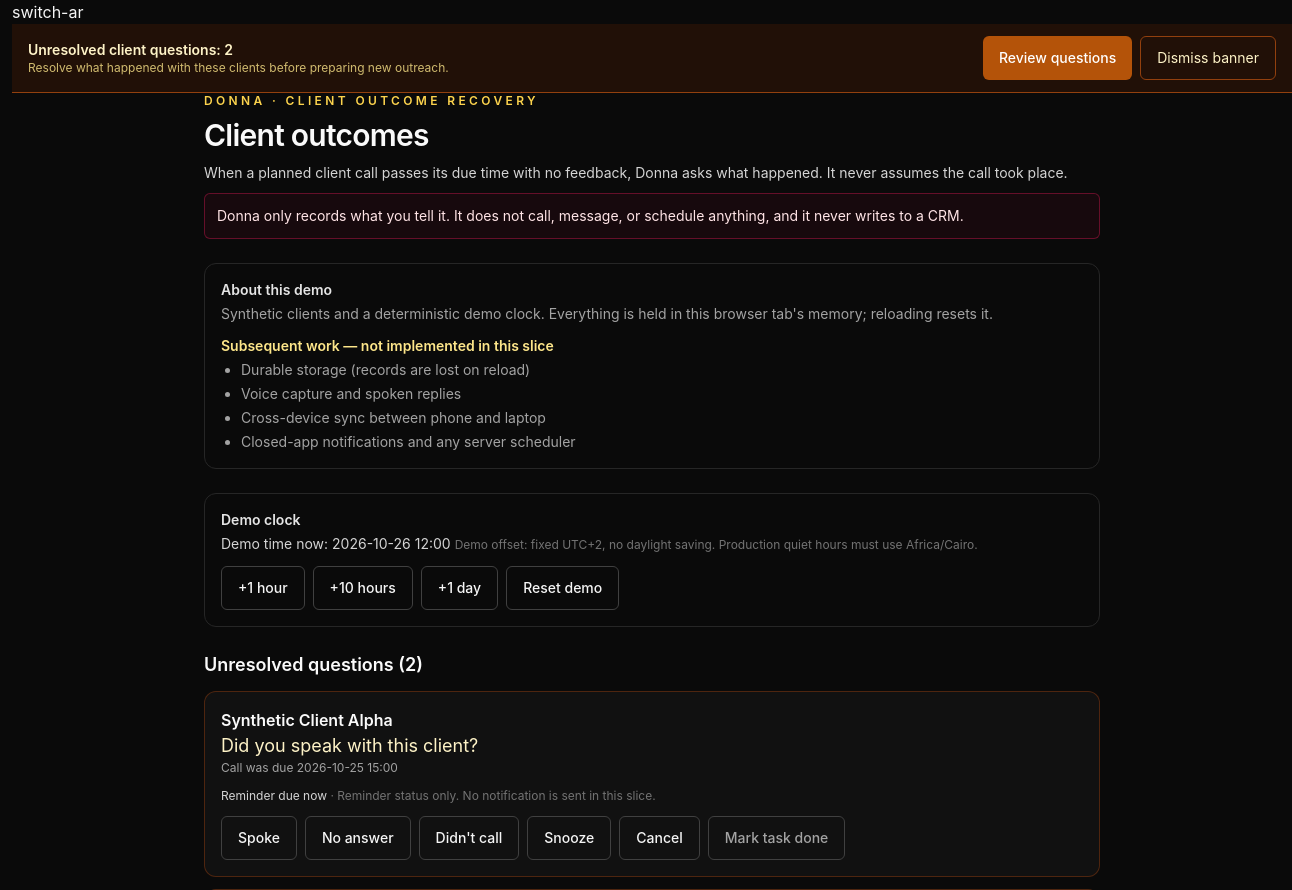
Test case: Donna inbox (English) › will not record a client-confirmed appointment unless the client confirmation box is ticked
The image size is (1292, 890).
Click the button "Spoke": click(259, 838) 221,816 -> 297,860
(page scrolled)
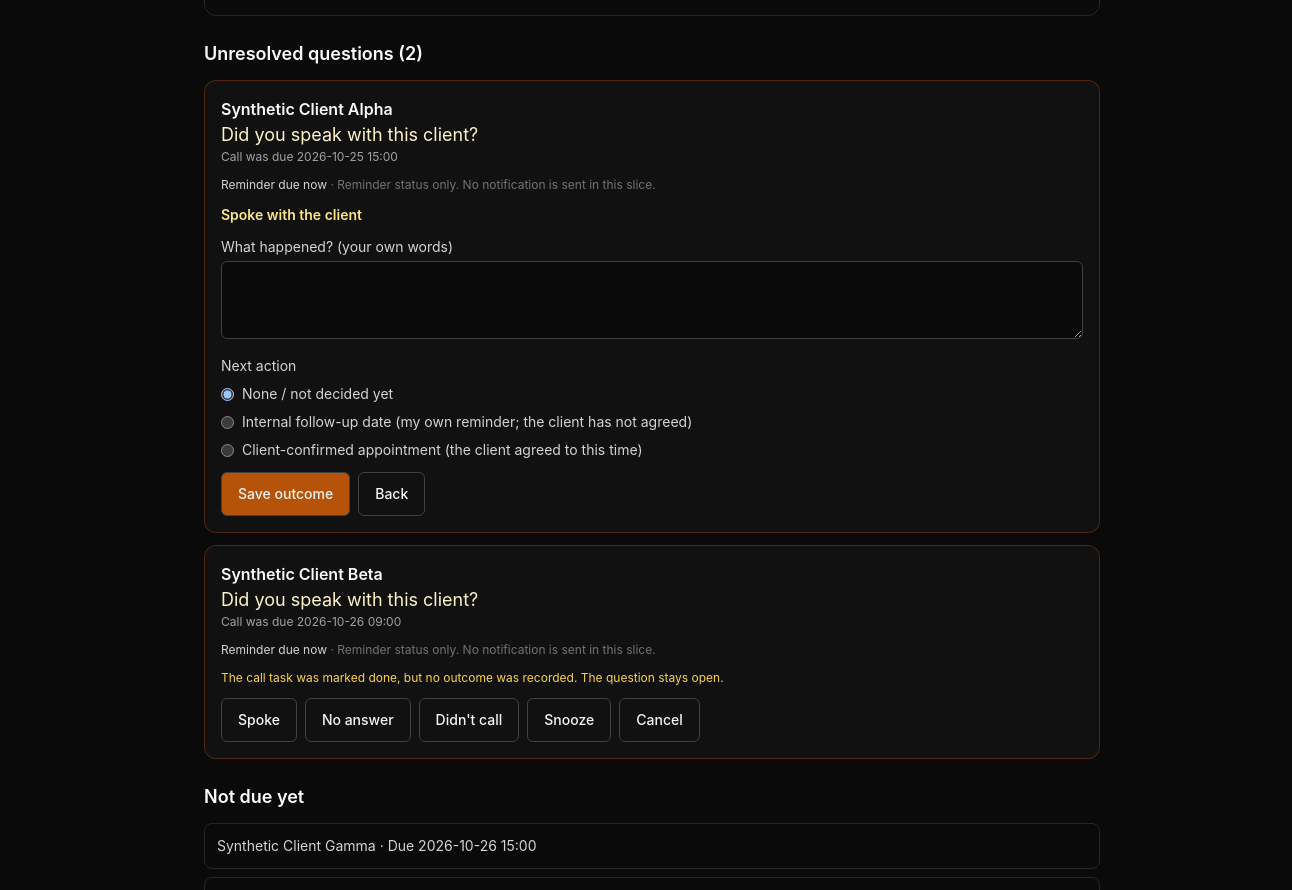
Click the radio button labelled "Client-confirmed appointment (": click(228, 450) 221,444 -> 234,457
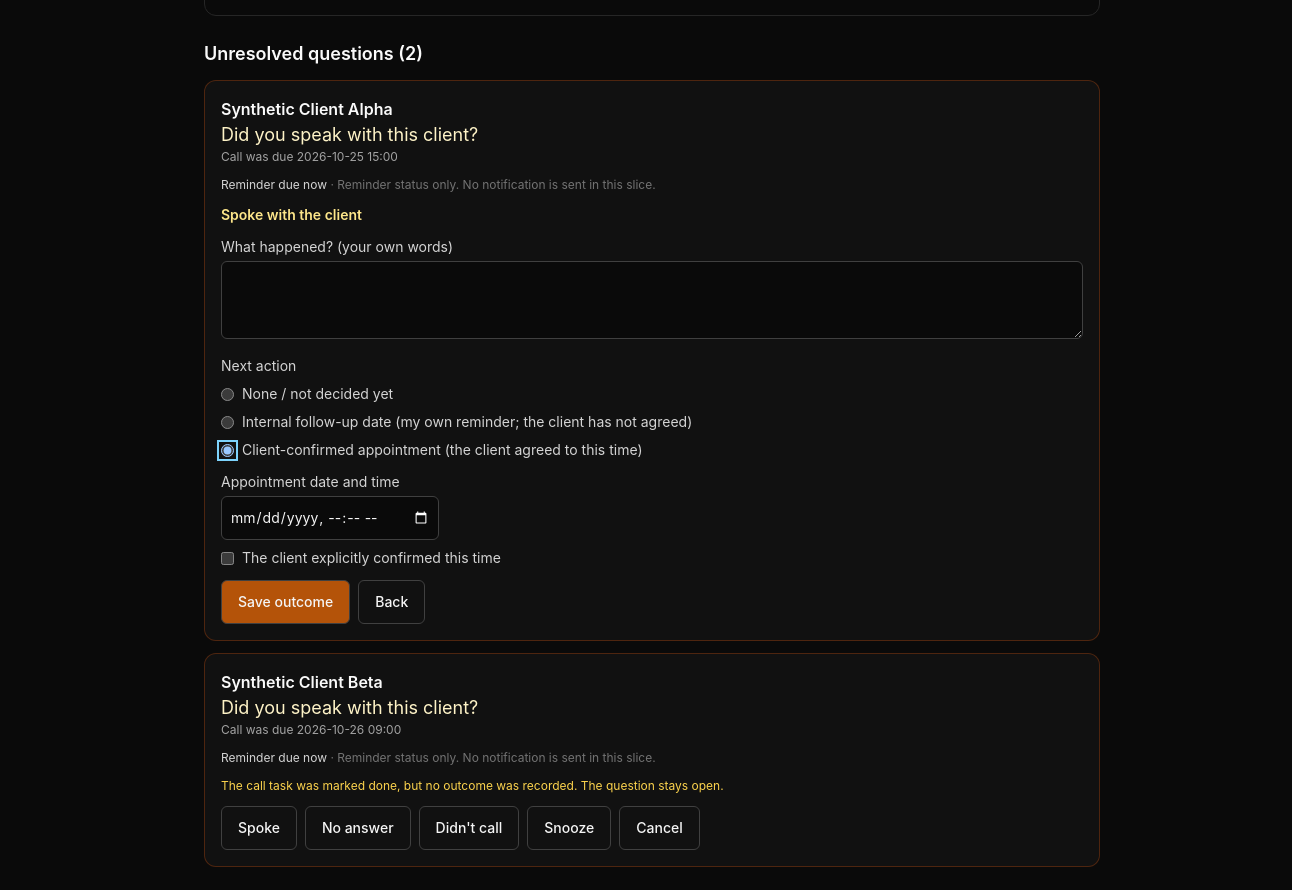
In the field labelled "Appointment date and time": (330, 518) 221,496 -> 439,540, type "2026-10-30T11:00"
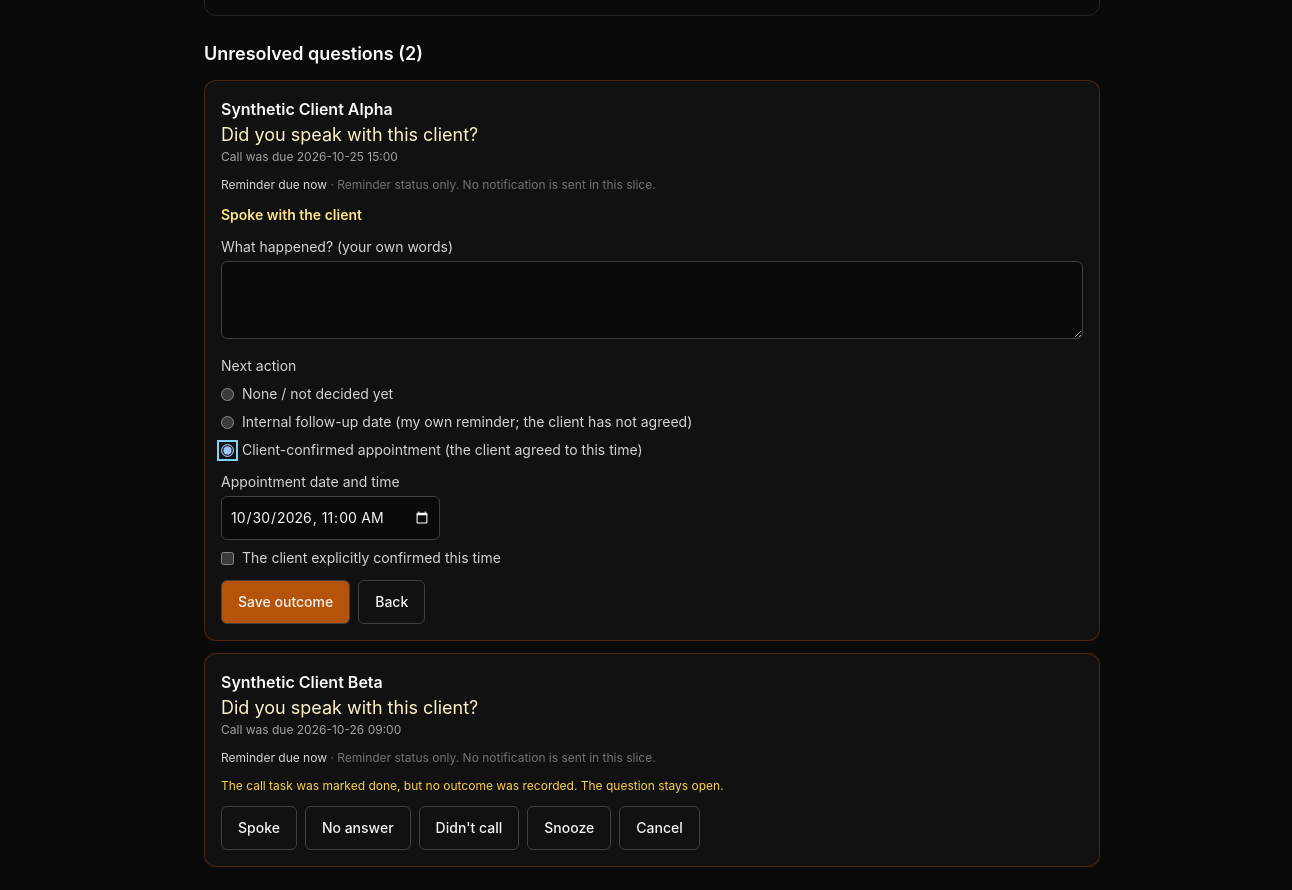
Click the button "Save outcome": click(286, 602) 221,580 -> 350,624
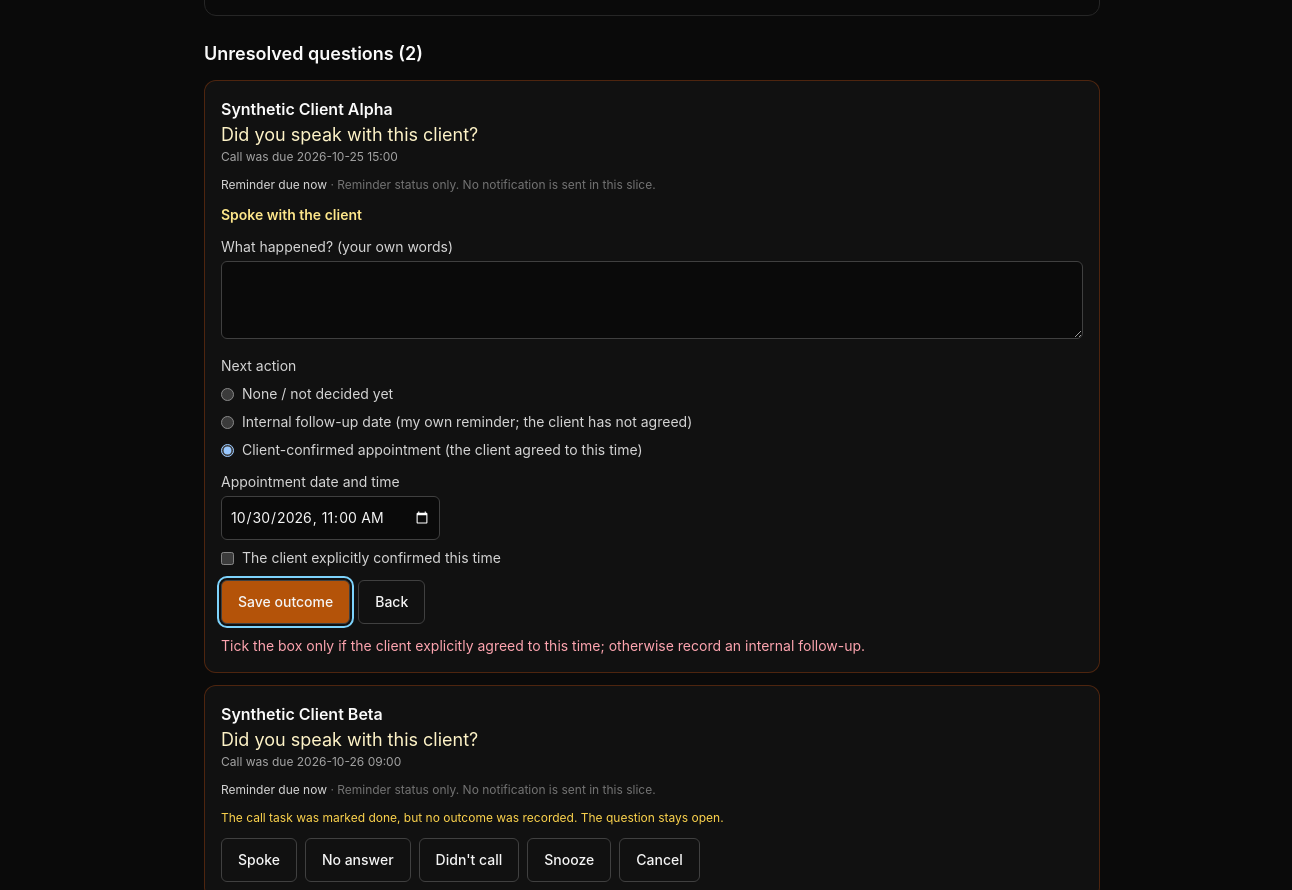
expect the message shows "Tick the box only if the client explicitly agreed": met, box 221,637 -> 865,654
Click the checkbox labelled "The client explicitly confirmed this time": click(228, 558) 221,552 -> 234,565
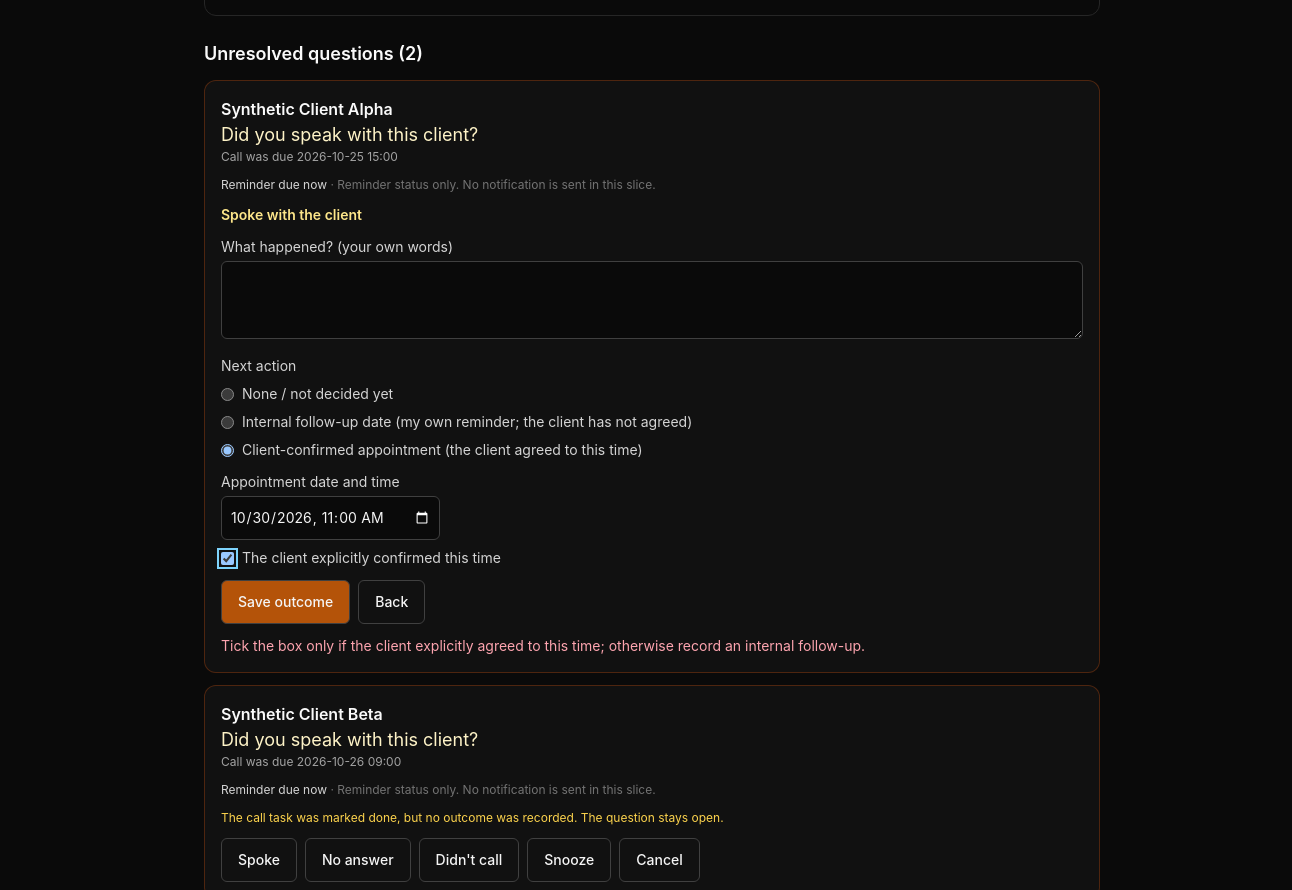
Click the button "Save outcome": click(286, 602) 221,580 -> 350,624
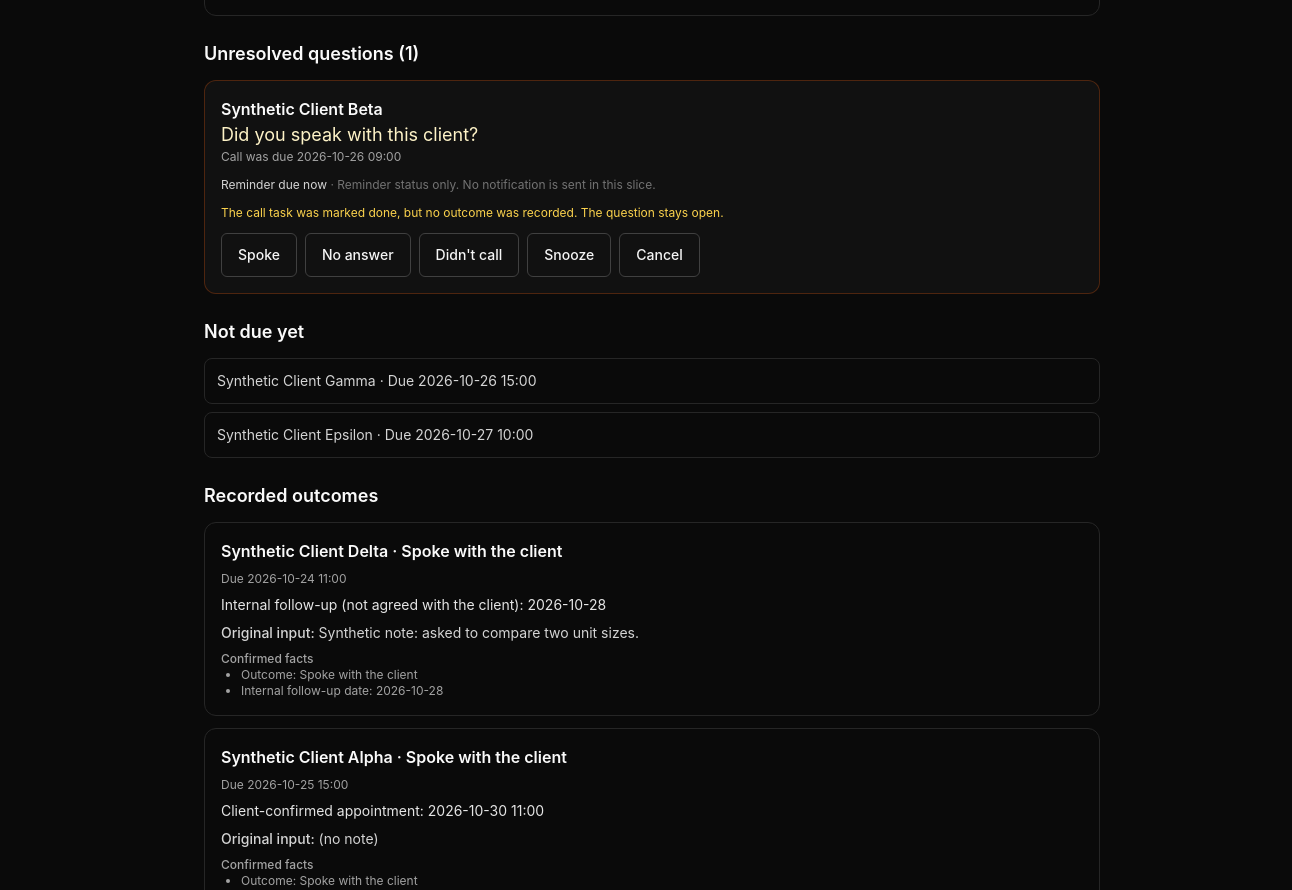
expect the element with test id "donna-next-call-alpha" reads "Client-confirmed appointment: 2026-10-30 11:00": met, box 221,802 -> 544,819
